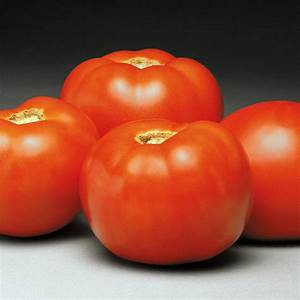tomato: (82, 111, 254, 260), (84, 45, 219, 122)
